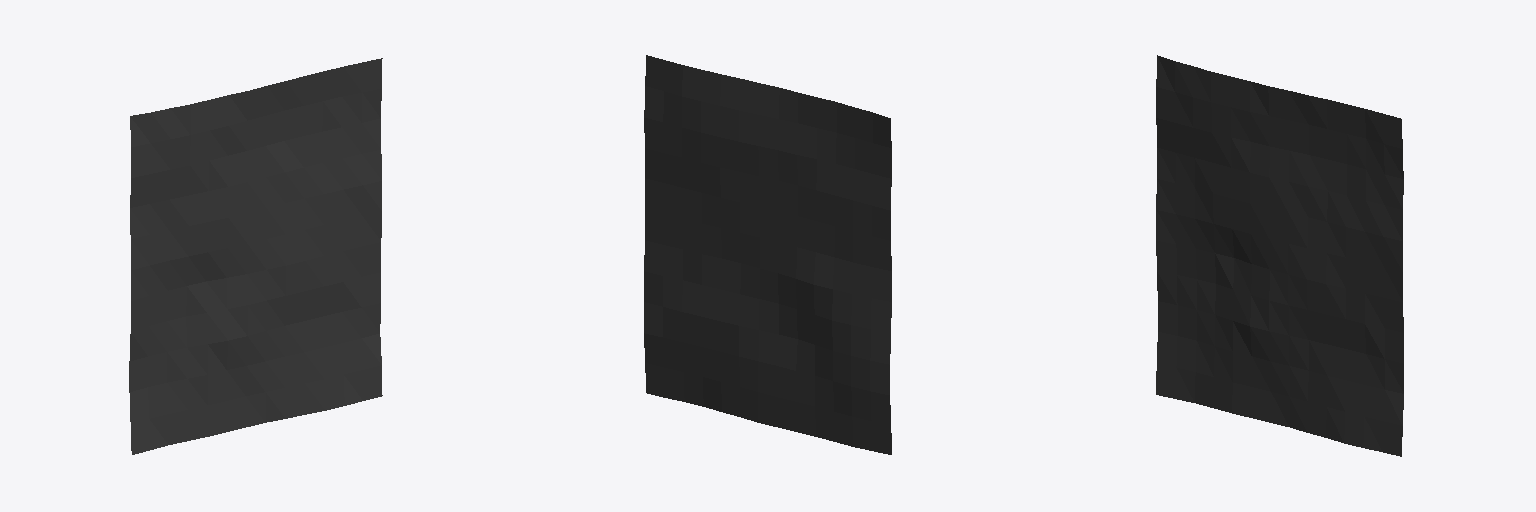
File: Terrain.obj
3 renders of one model, left to right at view 1: azimuth 30°, elevation 25°; view 2: azimuth 150°, elevation 25°; view 3: azimuth 330°, elevation 25°, orthographic.
Visible parts, largest first — view 1: Terrain_Terrain.001; view 2: Terrain_Terrain.001; view 3: Terrain_Terrain.001.
Boxes of the visible parts, x1=… form: Terrain_Terrain.001: x1=129, y1=58, x2=382, y2=454; Terrain_Terrain.001: x1=644, y1=55, x2=891, y2=454; Terrain_Terrain.001: x1=1156, y1=55, x2=1403, y2=456.
Size of the model in its own units: 262 by 340 by 10.